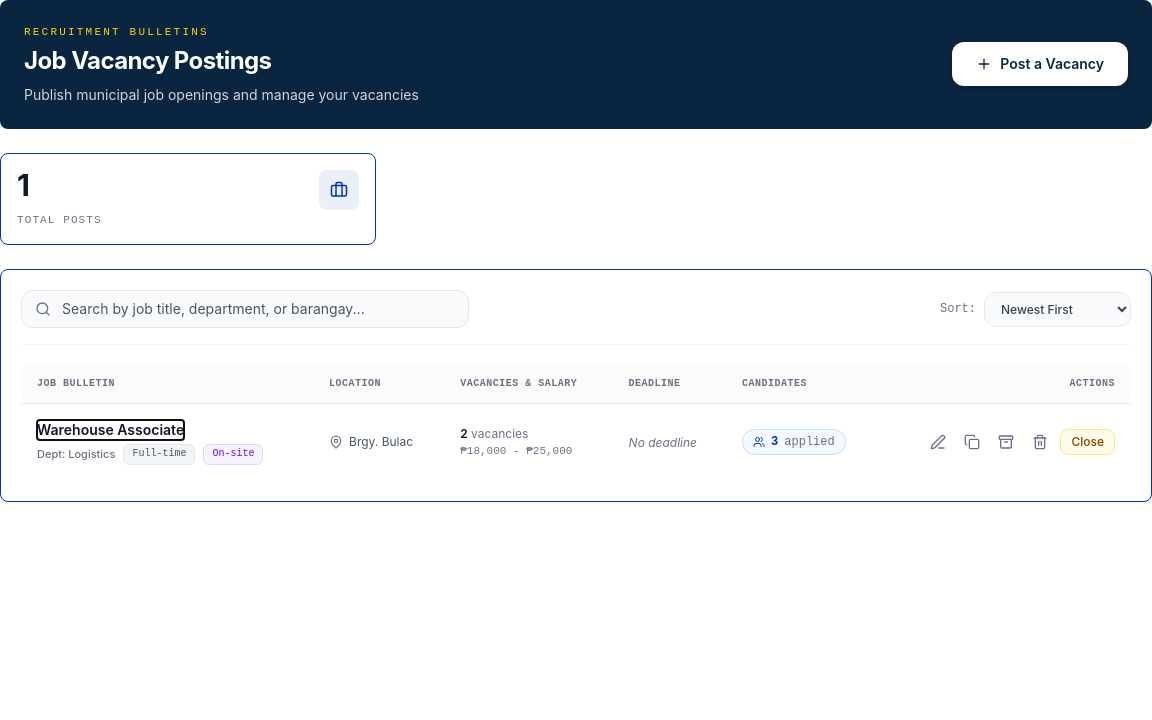
Scenario: JobPosts accessibility › opens the job detail from the row title button, keyboard included
Click the button "Warehouse Associate".
click(111, 430)  # box [37, 420, 184, 440]
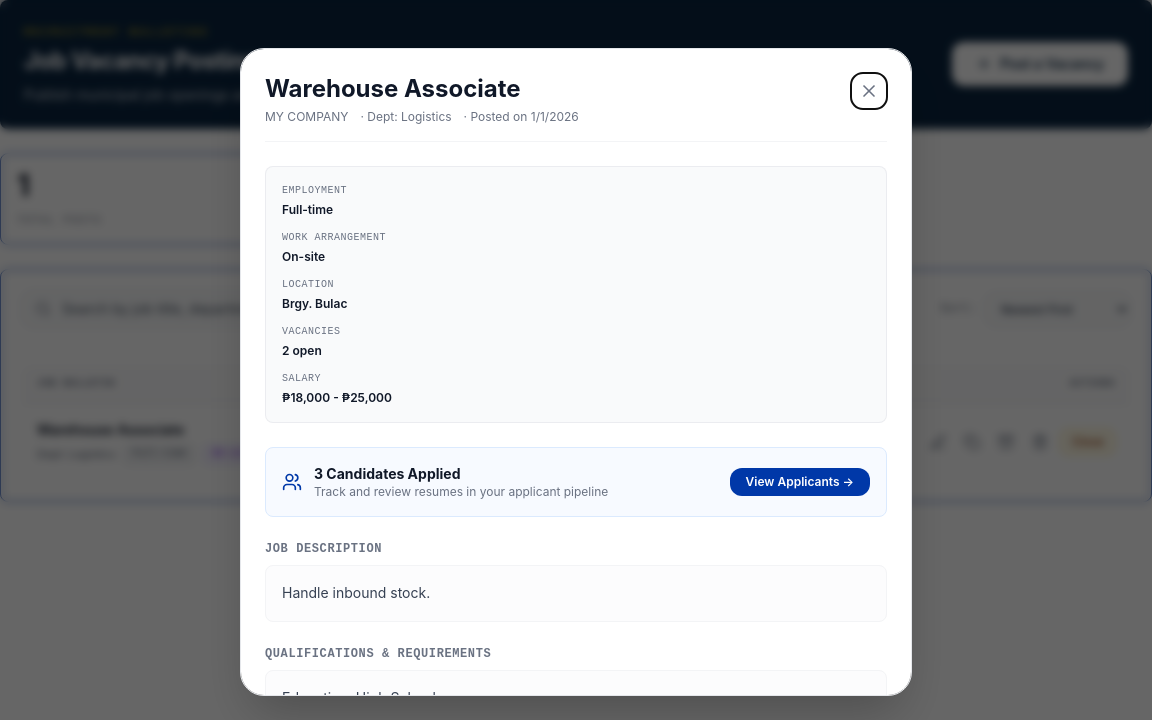
Result: the dialog is shown at [240, 48, 912, 696]
Result: the heading "Warehouse Associate" is shown at [265, 74, 521, 103]
Press Escape
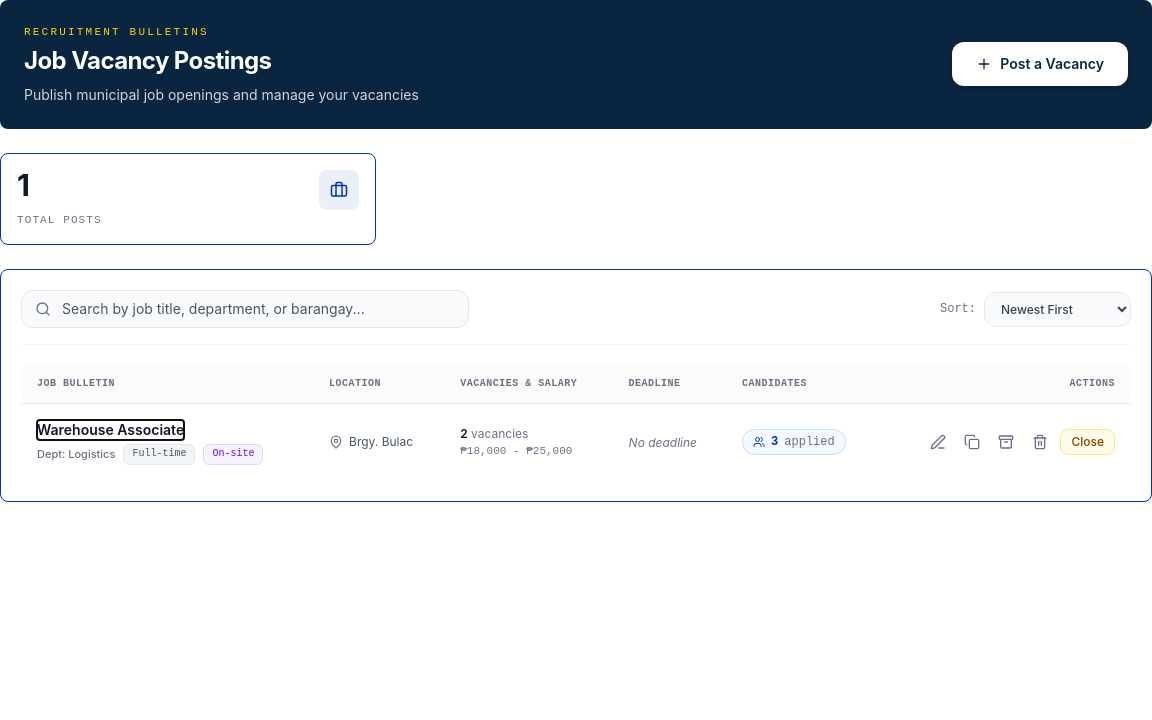
Result: the dialog is gone
